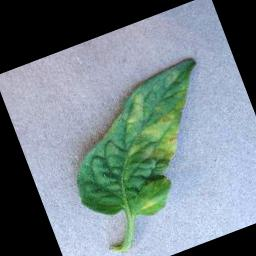Leaf_Mold: (105, 72, 212, 177), (138, 196, 161, 217)
